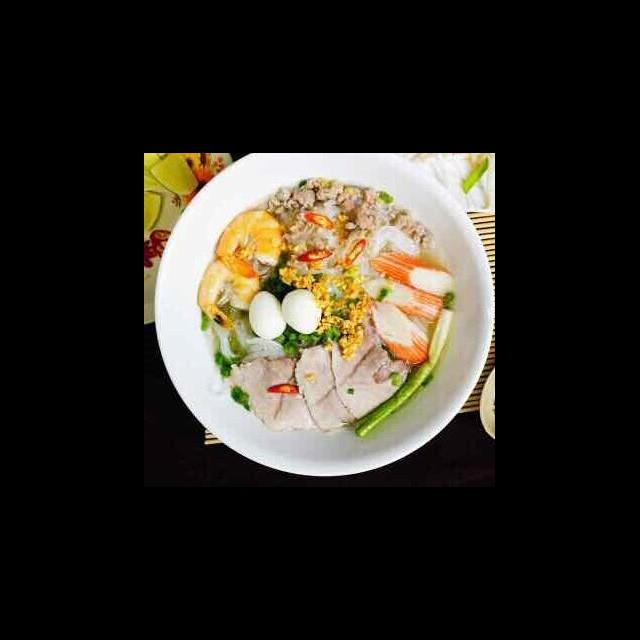banh hu tieu: (198, 308, 292, 366)
hu tieu: (158, 170, 496, 477)
thit bam: (264, 172, 438, 250)
thit heo: (328, 305, 414, 422), (226, 352, 328, 436), (292, 338, 366, 435)
tom: (210, 203, 290, 281), (196, 250, 266, 334)
trung: (246, 288, 294, 341), (280, 286, 328, 335)
